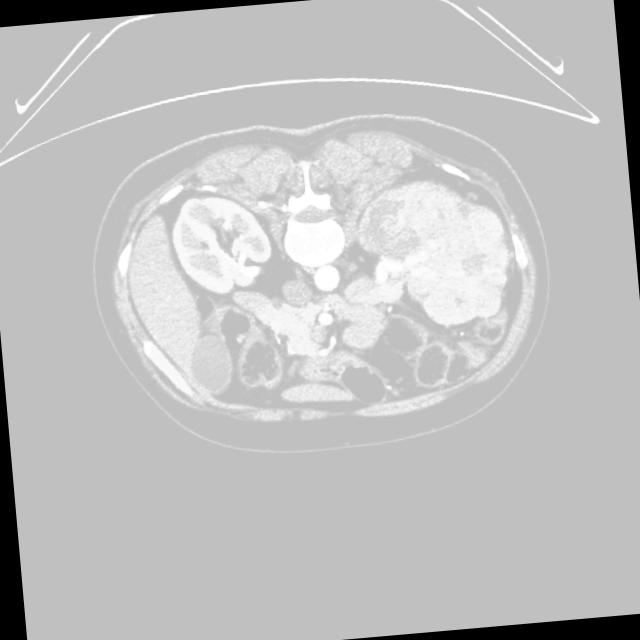TUMOR: (136, 174, 471, 354)
